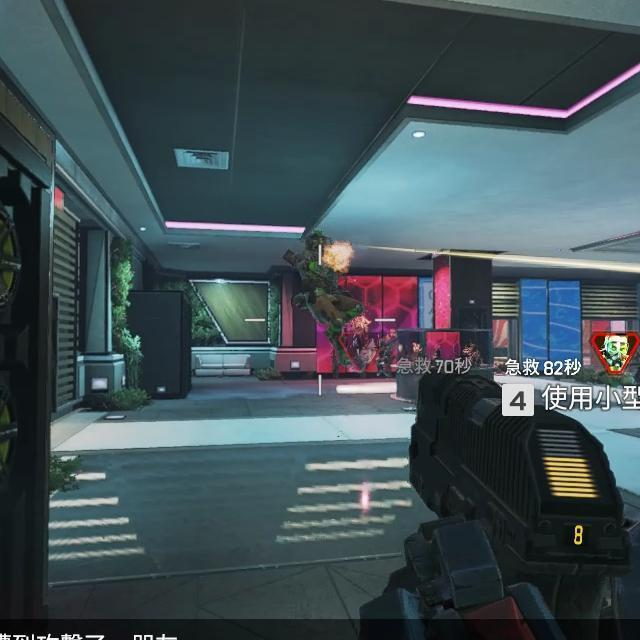avatar: (295, 229, 363, 368)
object: (324, 241, 355, 272)
